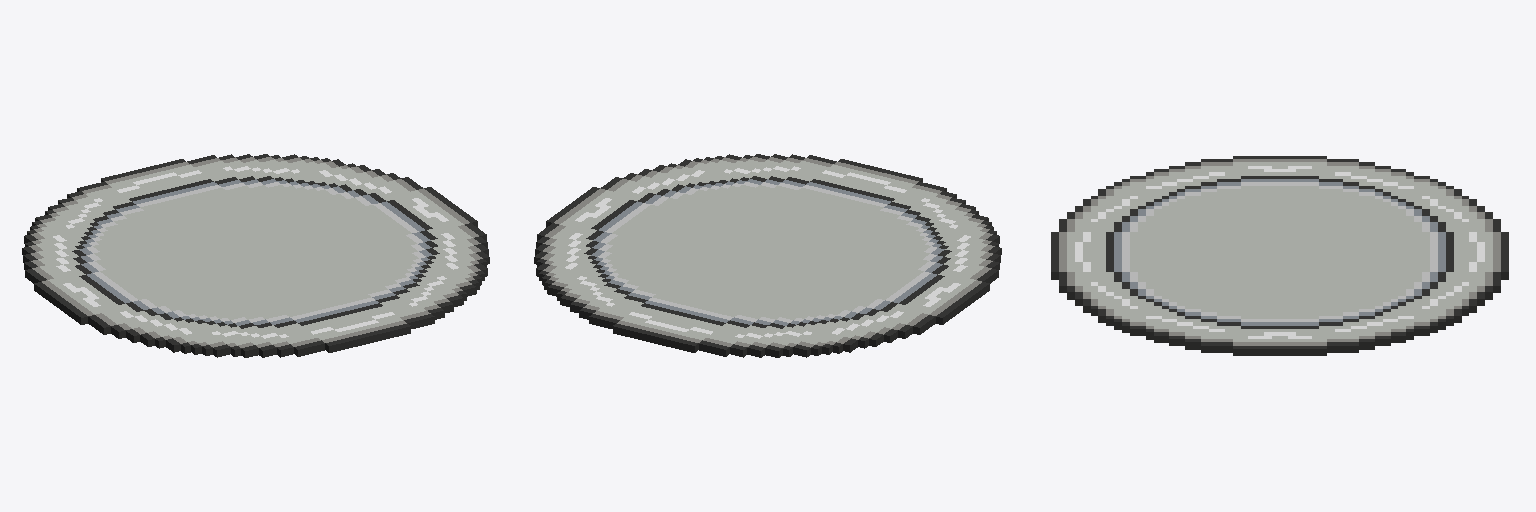
3 views of the same model, side by side, from view 1: azimuth 30°, elevation 25°; view 2: azimuth 150°, elevation 25°; view 3: azimuth 270°, elevation 25° (orthographic).
Visible parts, largest first — view 1: Tarelka; view 2: Tarelka; view 3: Tarelka.
Part boxes in pixels (x1,y1,x2,y2): Tarelka: (22,154,489,357); Tarelka: (534,154,1001,357); Tarelka: (1051,156,1508,355).
Bounding box in the file's own units: 58 × 1 × 58.
1 materials, 1 textured.